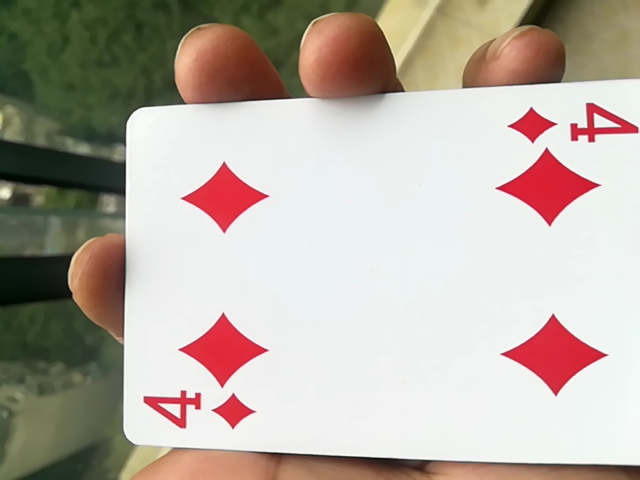fk 4: (104, 94, 638, 474)
